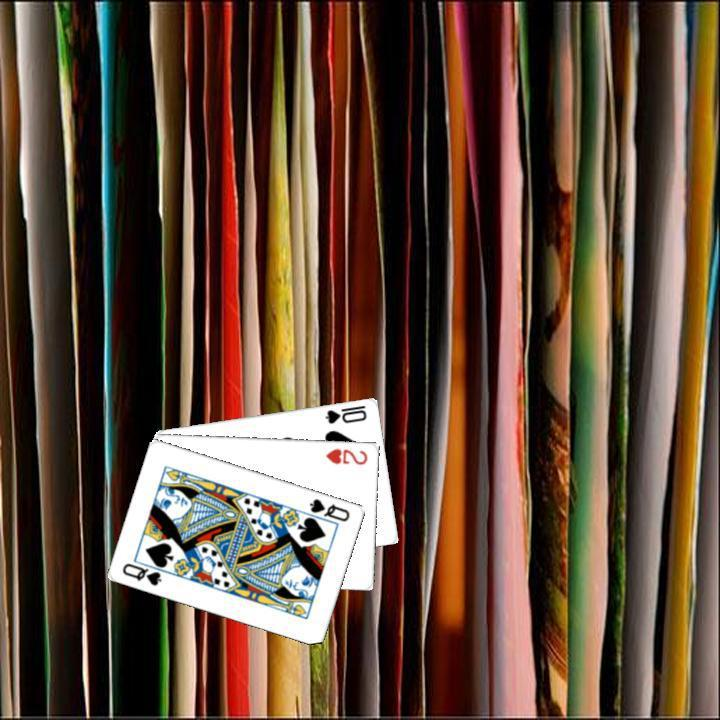10: (321, 400, 369, 425)
2: (322, 444, 370, 466)
Q: (118, 558, 164, 588), (305, 494, 352, 523)
